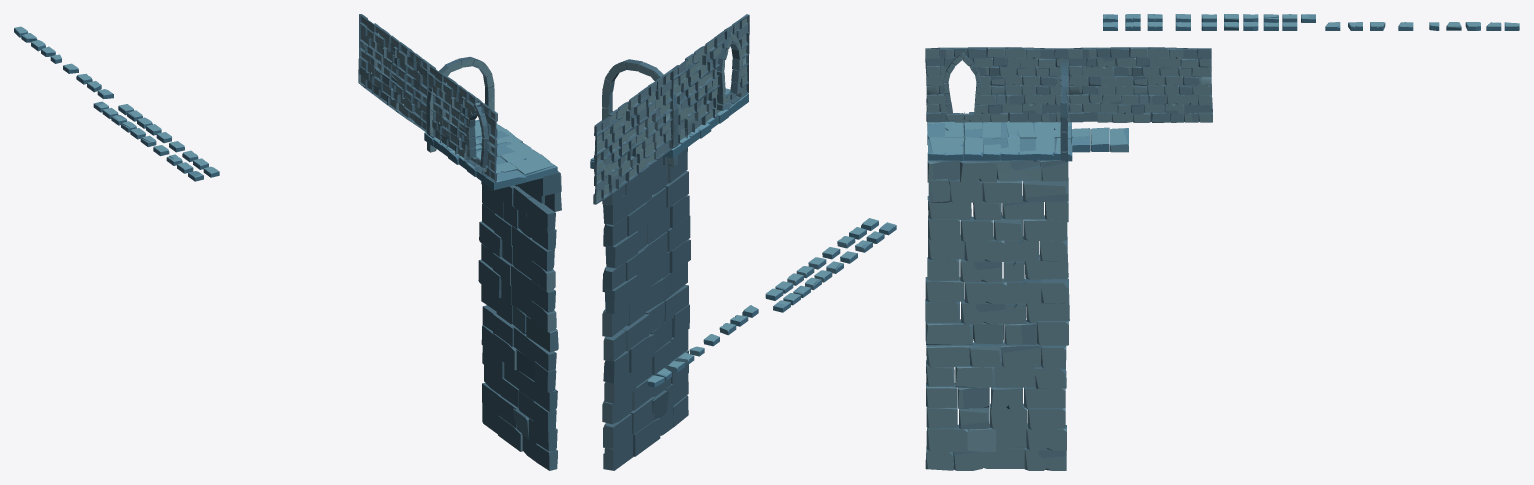
Rendered from StoneObjects.FBX.
3 views of the same model, side by side, from view 1: azimuth 30°, elevation 25°; view 2: azimuth 150°, elevation 25°; view 3: azimuth 270°, elevation 25° (orthographic). The views are drawn at different scales.
Parts seen in each view (by area): view 1: wall-big-bricks02, wall_window_optimized00, wall-big-bricks03, wall-big-bricks04, wall-big-bricks01, wall_optimized00, wall_optimized01, wall-big-bricks00, flor01, flor00, ark00; view 2: wall-big-bricks03, wall-big-bricks02, wall_window_optimized00, wall-big-bricks01, wall-big-bricks04, wall_optimized00, wall_optimized01, ark00, flor00, wall-big-bricks00; view 3: wall-big-bricks02, wall_window_optimized00, wall-big-bricks03, wall-big-bricks04, wall-big-bricks01, wall-big-bricks00, wall_optimized01, wall_optimized00, flor01, flor00, flor02, ark00.
Boxes of the visible parts, bbox=[...] form: wall-big-bricks02: bbox=[478, 243, 558, 352]; wall_window_optimized00: bbox=[426, 64, 497, 182]; wall-big-bricks03: bbox=[481, 305, 557, 411]; wall-big-bricks04: bbox=[482, 365, 557, 470]; wall-big-bricks01: bbox=[479, 184, 556, 291]; wall_optimized00: bbox=[358, 48, 426, 132]; wall_optimized01: bbox=[359, 14, 429, 98]; wall-big-bricks00: bbox=[481, 171, 561, 233]; flor01: bbox=[474, 119, 557, 181]; flor00: bbox=[424, 132, 526, 190]; ark00: bbox=[426, 56, 494, 152]; wall-big-bricks03: bbox=[603, 284, 689, 403]; wall-big-bricks02: bbox=[602, 216, 690, 336]; wall_window_optimized00: bbox=[669, 14, 749, 148]; wall-big-bricks01: bbox=[603, 152, 689, 268]; wall-big-bricks04: bbox=[602, 350, 688, 470]; wall_optimized00: bbox=[593, 109, 672, 204]; wall_optimized01: bbox=[594, 70, 673, 165]; ark00: bbox=[602, 59, 678, 166]; flor00: bbox=[663, 88, 748, 158]; wall-big-bricks00: bbox=[602, 147, 687, 205]; wall-big-bricks02: bbox=[925, 277, 1069, 345]; wall_window_optimized00: bbox=[925, 47, 1070, 122]; wall-big-bricks03: bbox=[926, 342, 1066, 409]; wall-big-bricks04: bbox=[925, 403, 1066, 470]; wall-big-bricks01: bbox=[927, 215, 1068, 282]; wall-big-bricks00: bbox=[927, 153, 1068, 222]; wall_optimized01: bbox=[1068, 47, 1211, 86]; wall_optimized00: bbox=[1069, 84, 1212, 122]; flor01: bbox=[928, 137, 1072, 161]; flor00: bbox=[927, 121, 1071, 145]; flor02: bbox=[1071, 127, 1128, 152]; ark00: bbox=[1060, 62, 1067, 161].
Size of the model in its own units: 1845 by 2312 by 3184.
